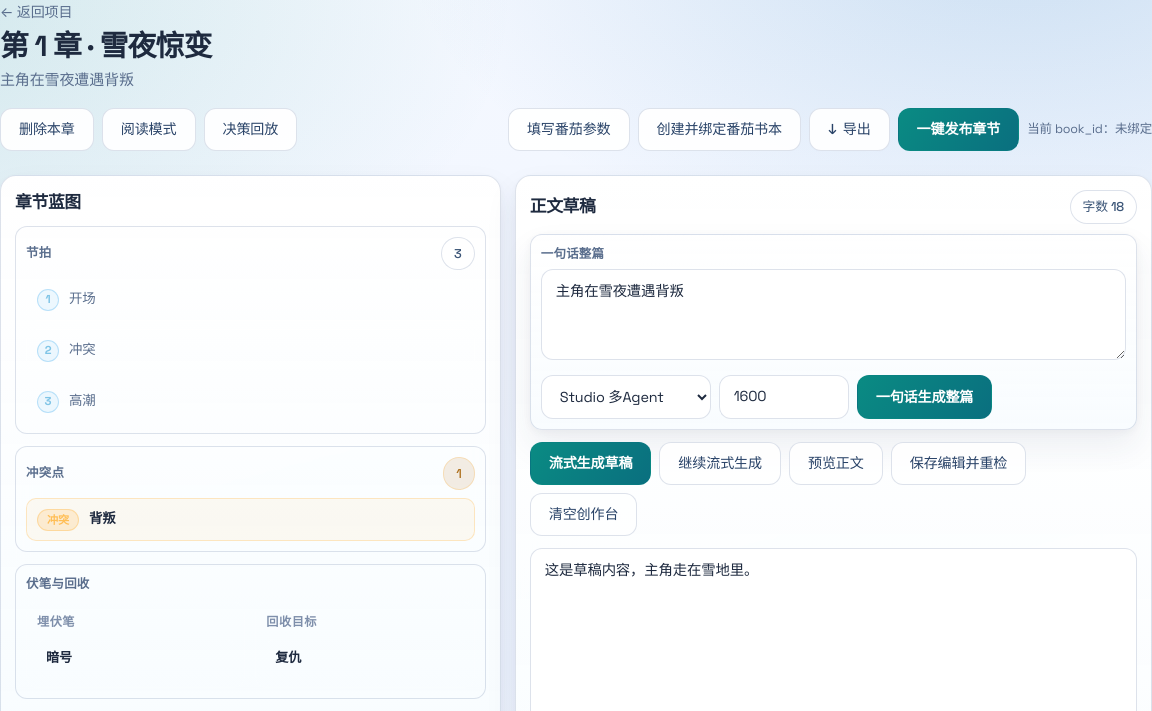
Test: ChapterWorkbenchPage › 显示删除本章按钮并可打开确认框
Click the button "删除本章" at (47, 130), box [0, 108, 94, 151]
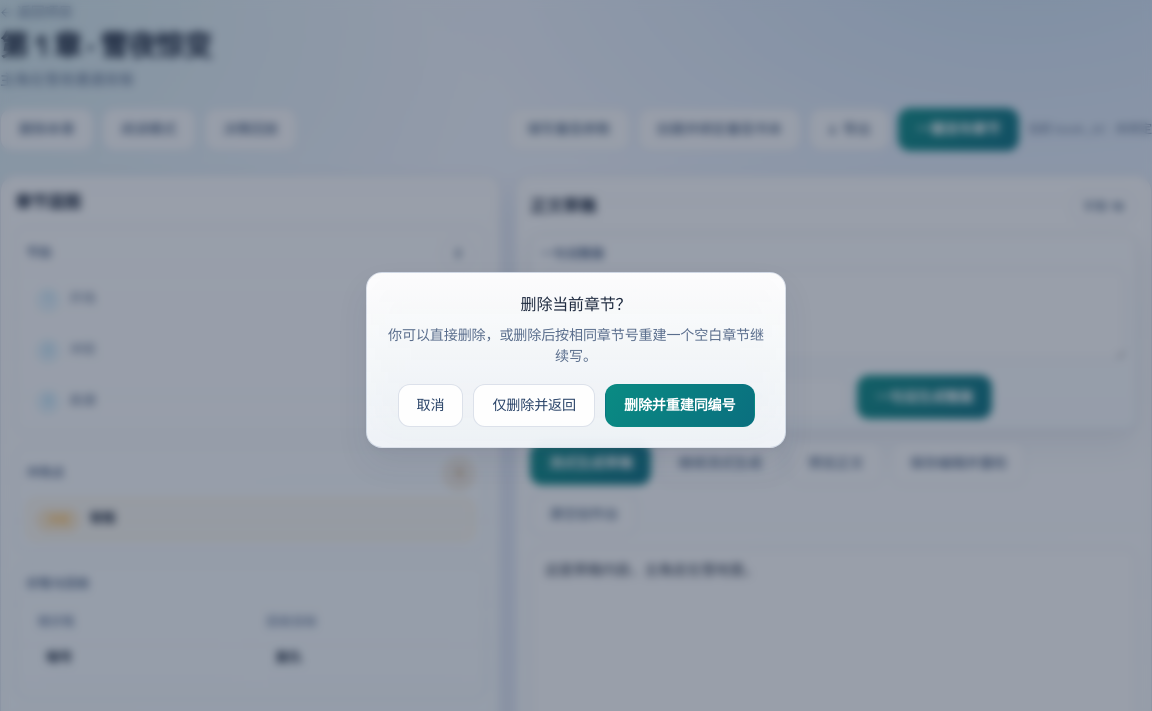
Expected: the text "删除当前章节？" is shown, [520, 294, 631, 315]
